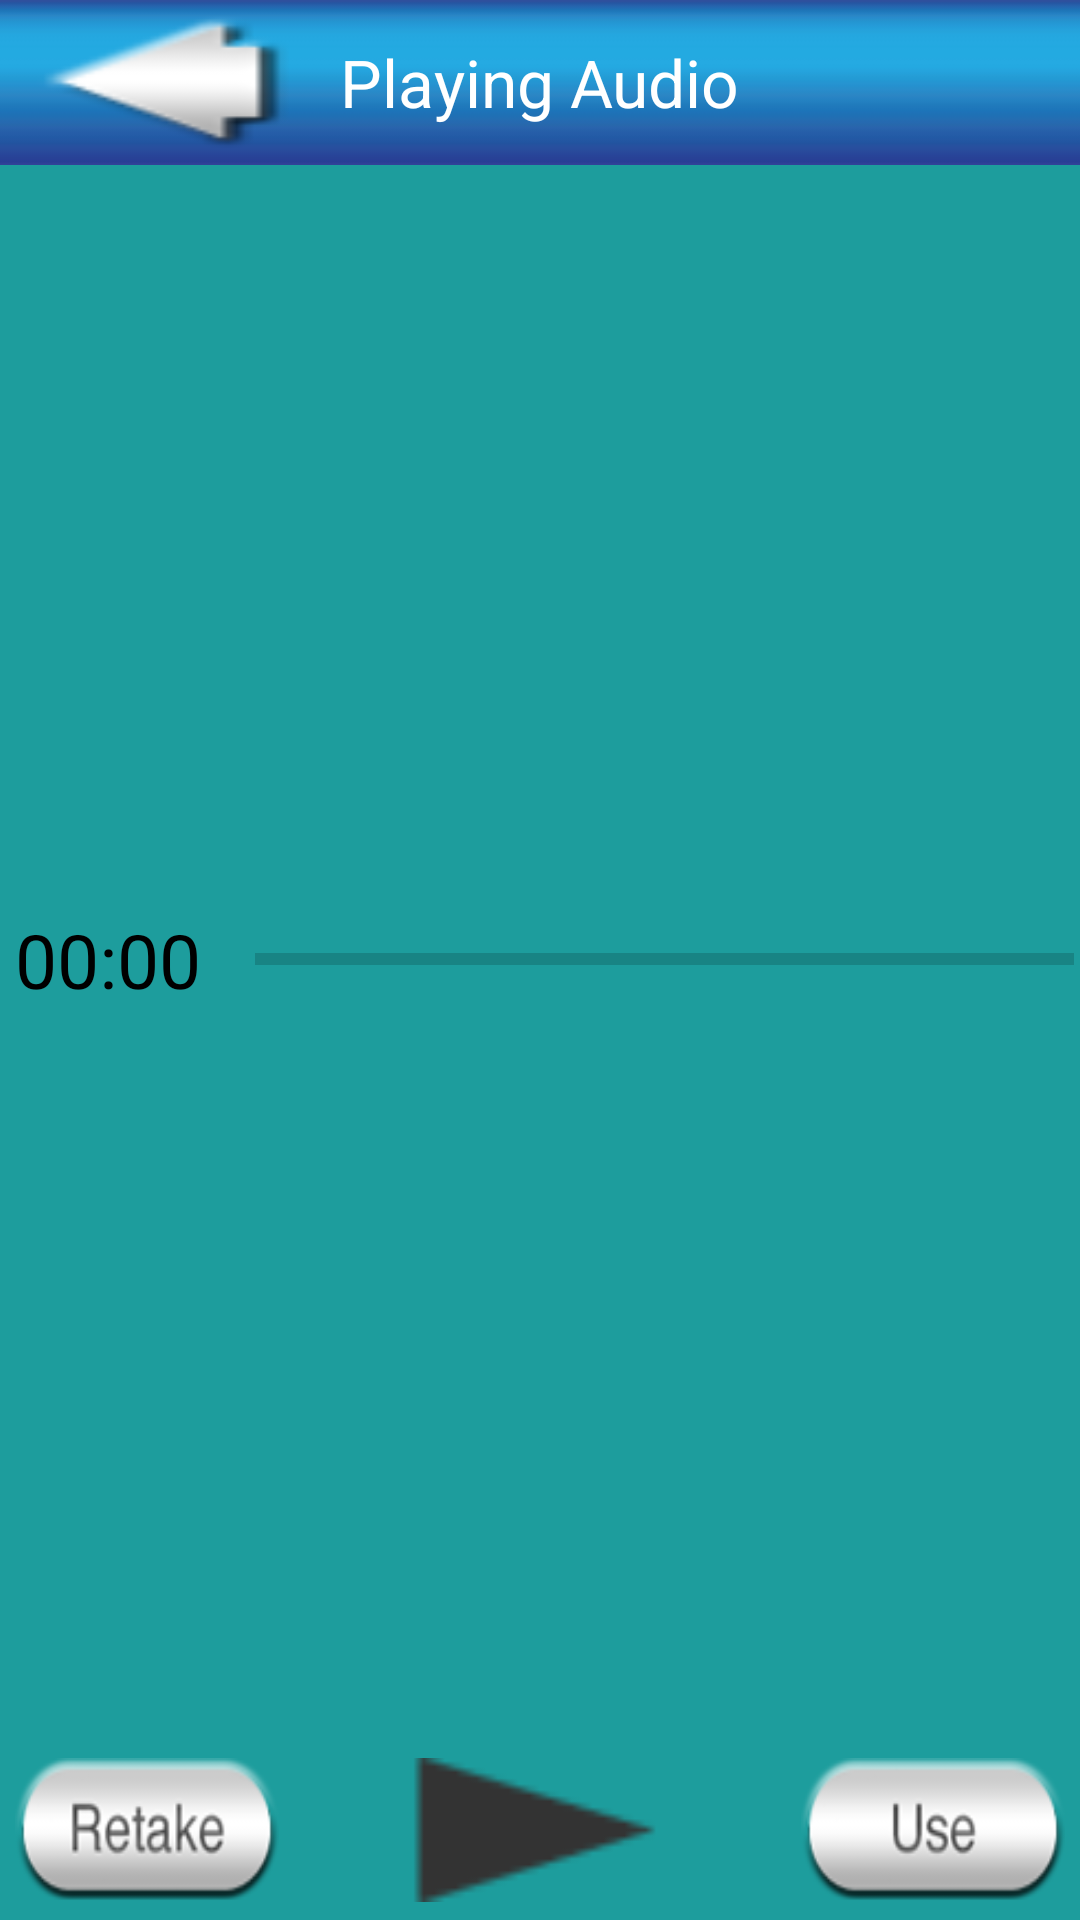

Icons on this 1080×1920 Android screen, each with the point to tap as (x,y):
videoplay: (534,1830)
